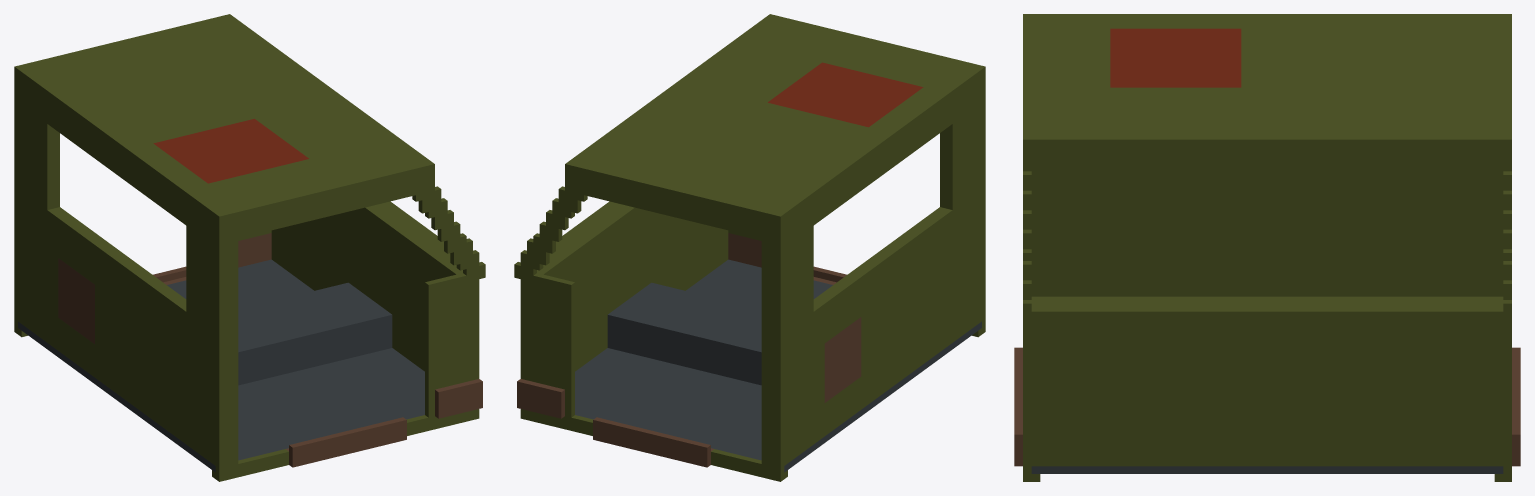
Rendered from technical_cab.glb.
3 renders of one model, left to right at view 1: azimuth 30°, elevation 25°; view 2: azimuth 150°, elevation 25°; view 3: azimuth 270°, elevation 25°, orthographic. The views are drawn at different scales.
Visible parts, largest first — view 1: body:compound; view 2: body:compound; view 3: body:compound.
Part boxes in pixels (x1,y1,x2,y2): body:compound: [14, 14, 485, 481]; body:compound: [514, 14, 985, 481]; body:compound: [1014, 14, 1520, 481].
Size of the model in its own units: 1.31 by 1.25 by 1.81.
